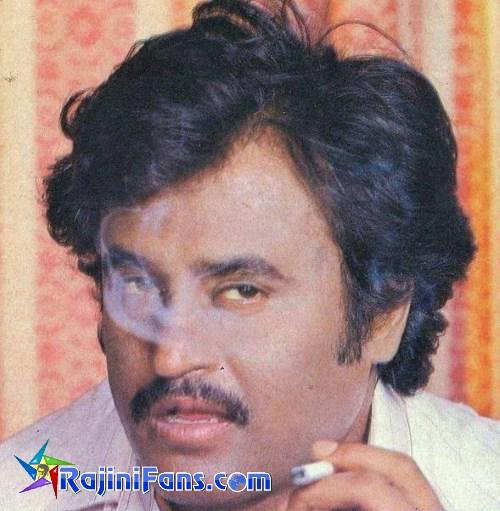cigarette: (288, 460, 333, 481)
